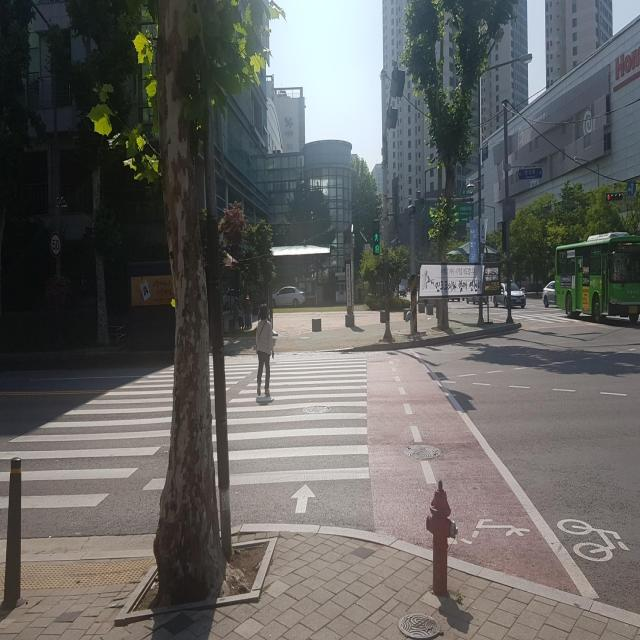초록불: (372, 219, 380, 256)
횡단보도: (0, 344, 369, 541)
